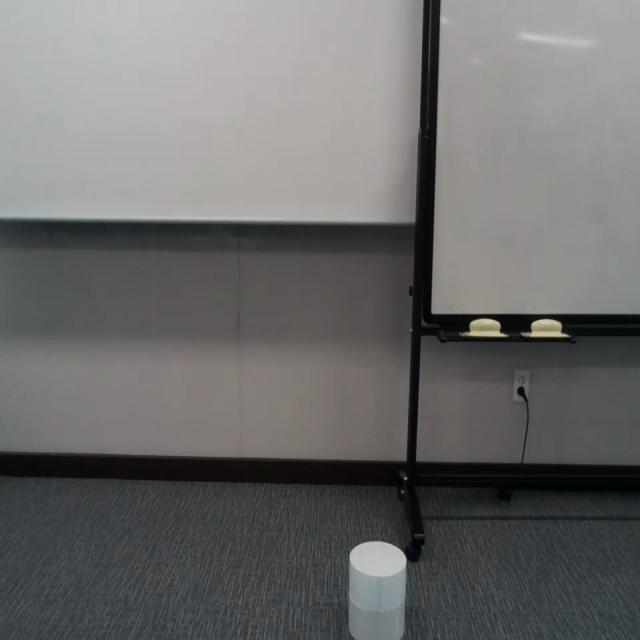cylinder: (348, 540, 407, 640)
